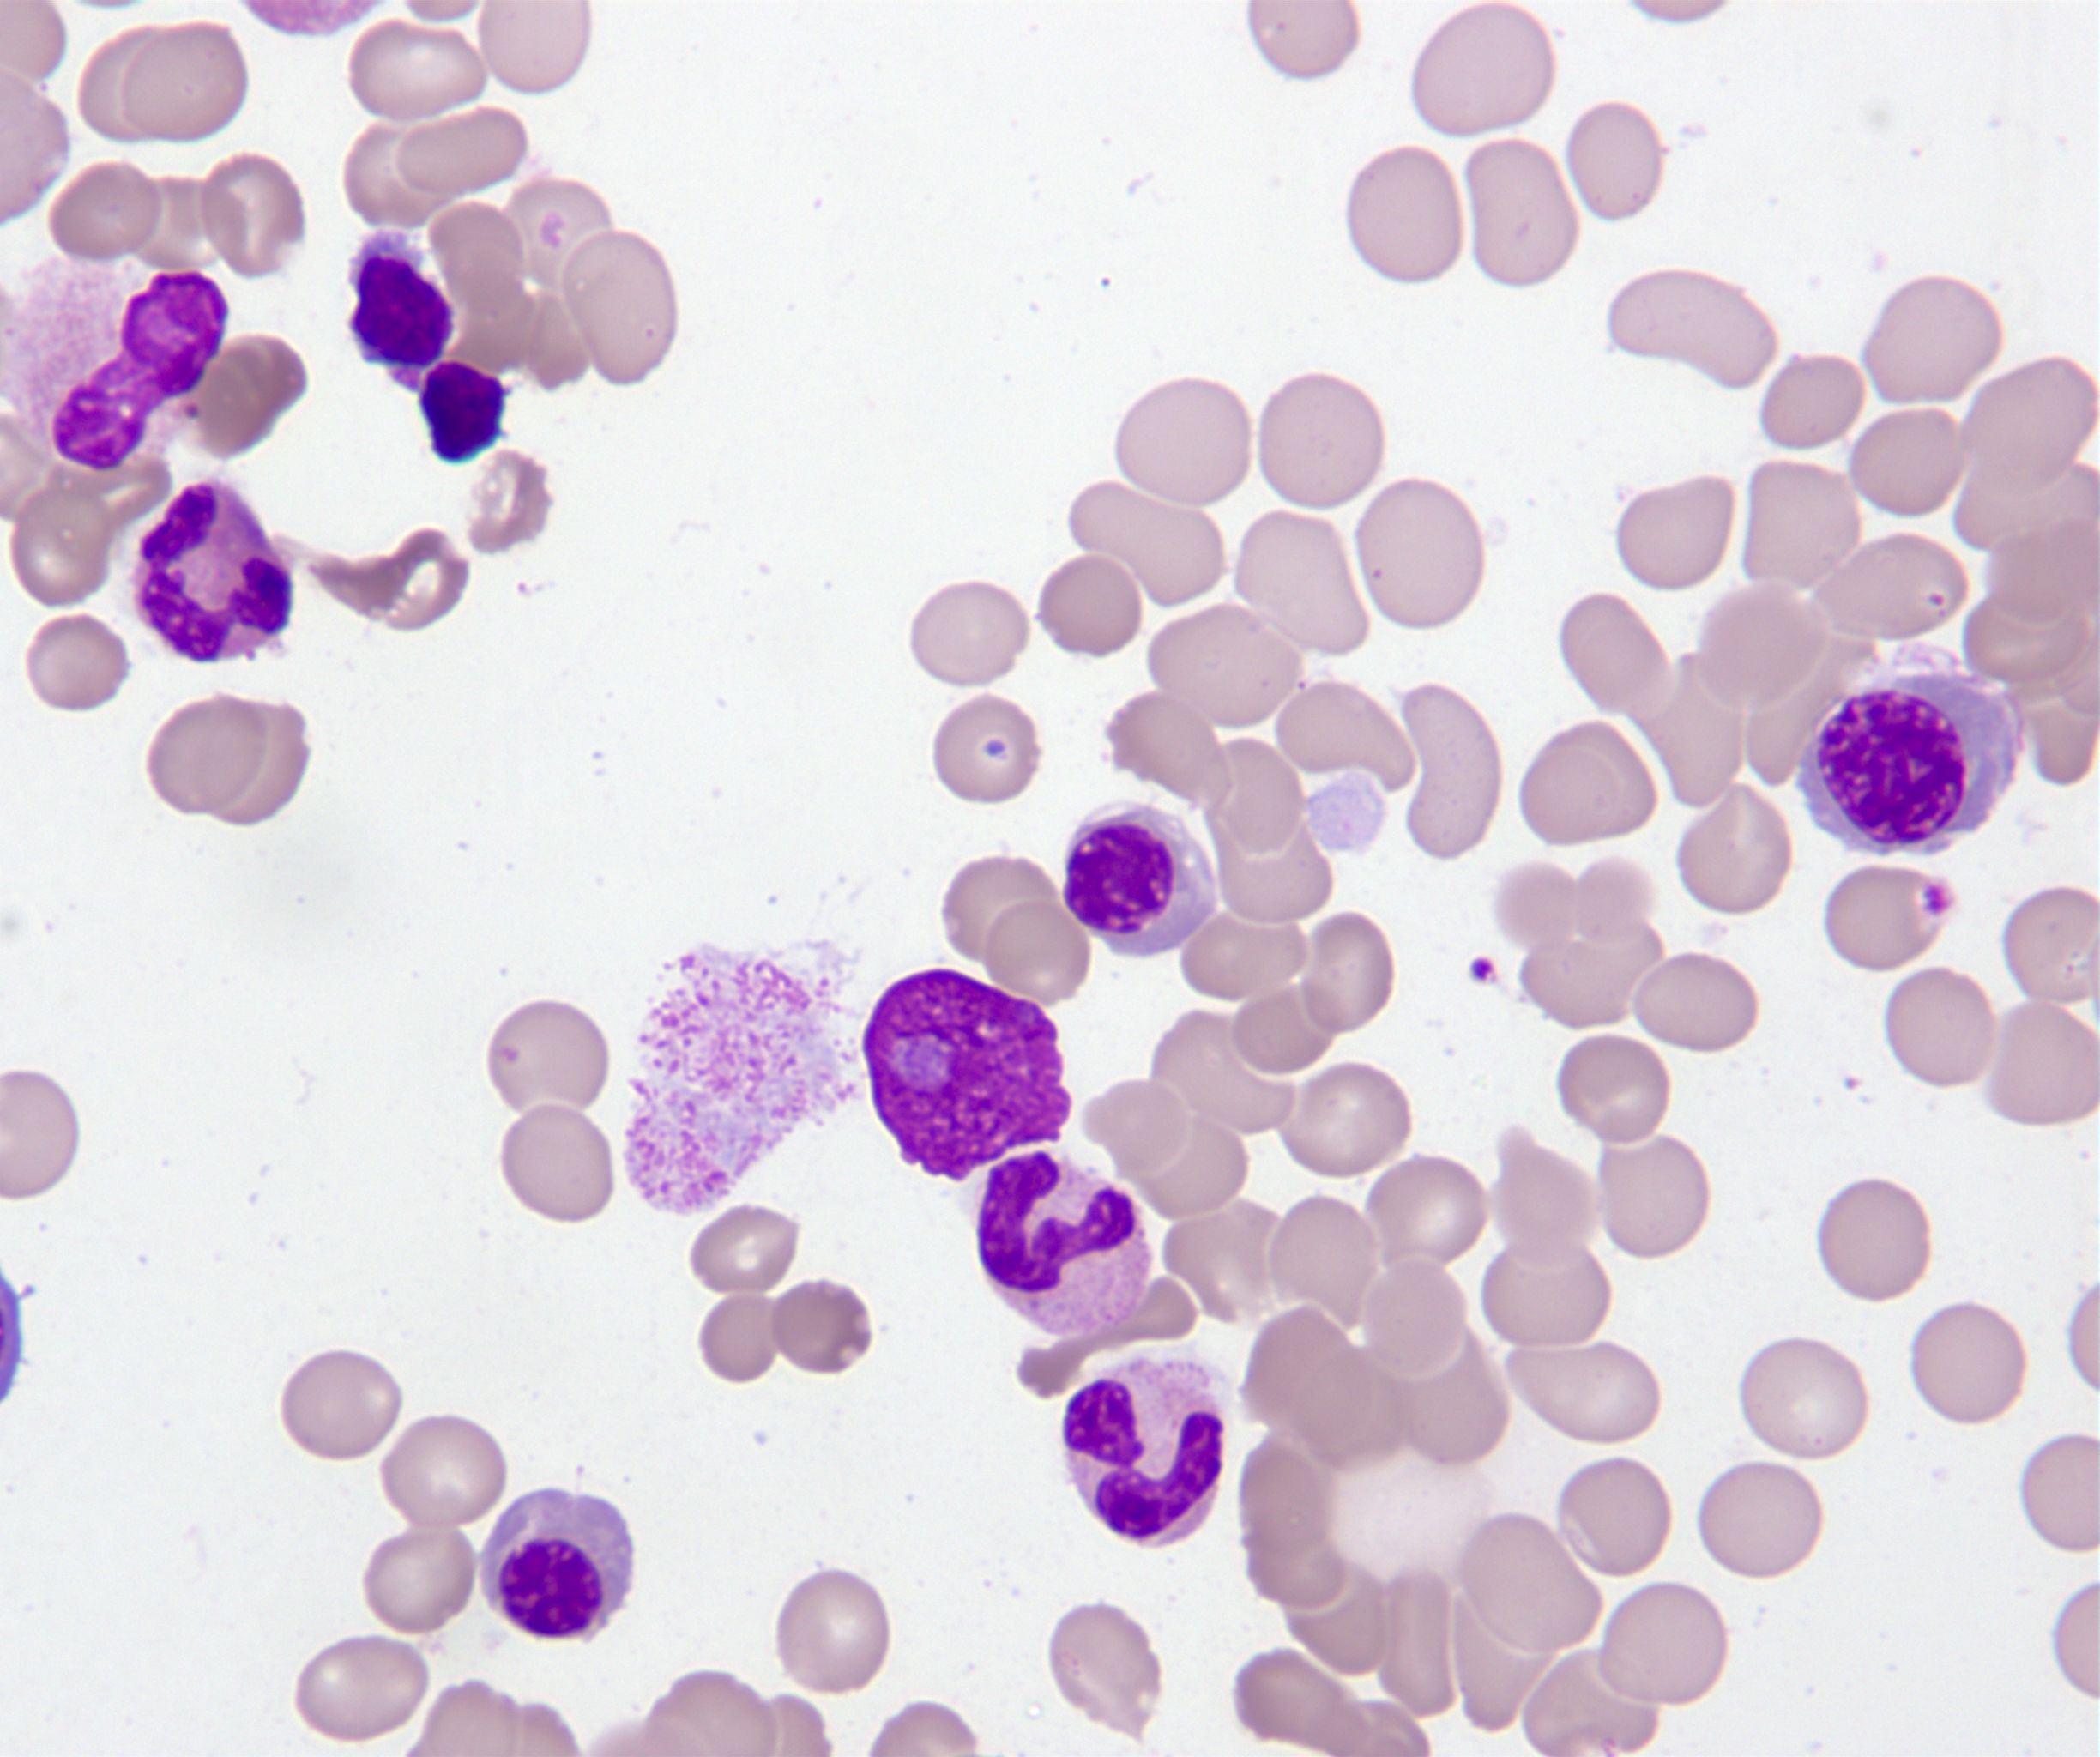23: (1797, 673, 2015, 855)
24: (1064, 801, 1216, 956), (480, 1490, 631, 1640)
32: (347, 225, 455, 391), (420, 361, 506, 462)
5: (977, 1152, 1151, 1335)
6: (1064, 1357, 1223, 1546), (131, 482, 293, 663)
x: (0, 253, 228, 471), (863, 970, 1071, 1181)
